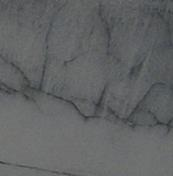termicas: (0, 37, 173, 145), (86, 2, 126, 69), (26, 17, 70, 55)
